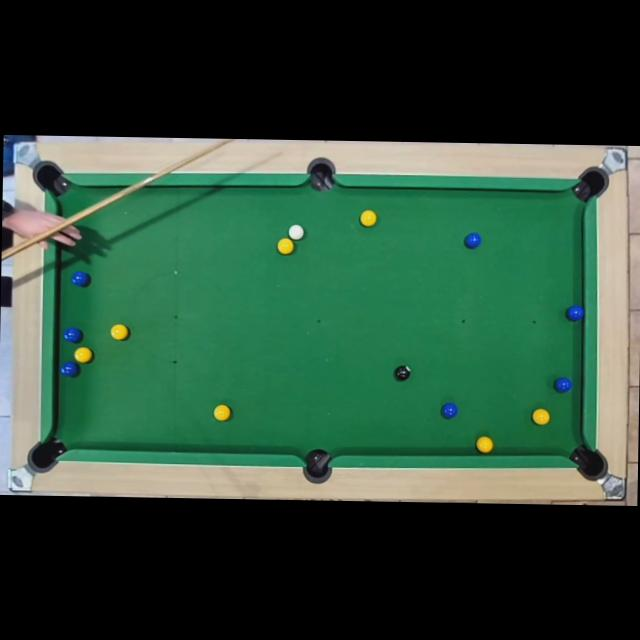Ball: (73, 346, 92, 362), (554, 377, 572, 393), (359, 211, 377, 227), (476, 436, 494, 452), (110, 324, 128, 340), (63, 328, 82, 343), (213, 404, 230, 420), (532, 409, 549, 425), (277, 238, 294, 254), (61, 362, 78, 377), (394, 365, 410, 380), (566, 306, 582, 321), (441, 402, 456, 418), (288, 225, 304, 240), (464, 232, 479, 247), (72, 271, 87, 285)
